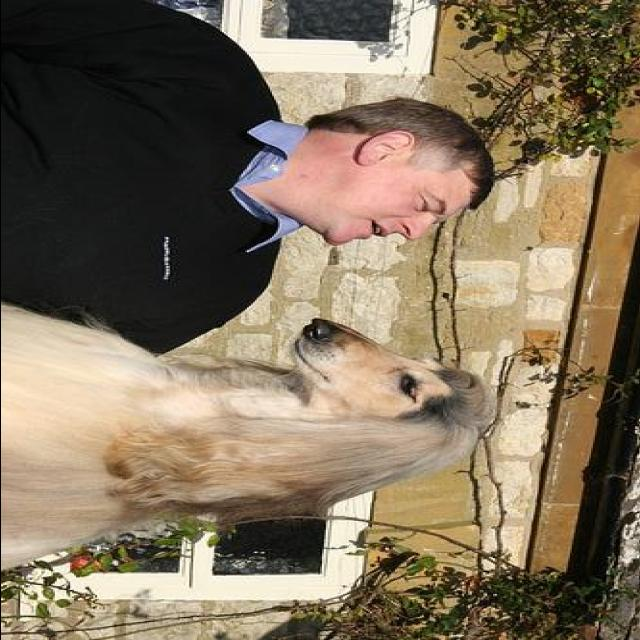afghan_hound: (2, 302, 486, 572)
